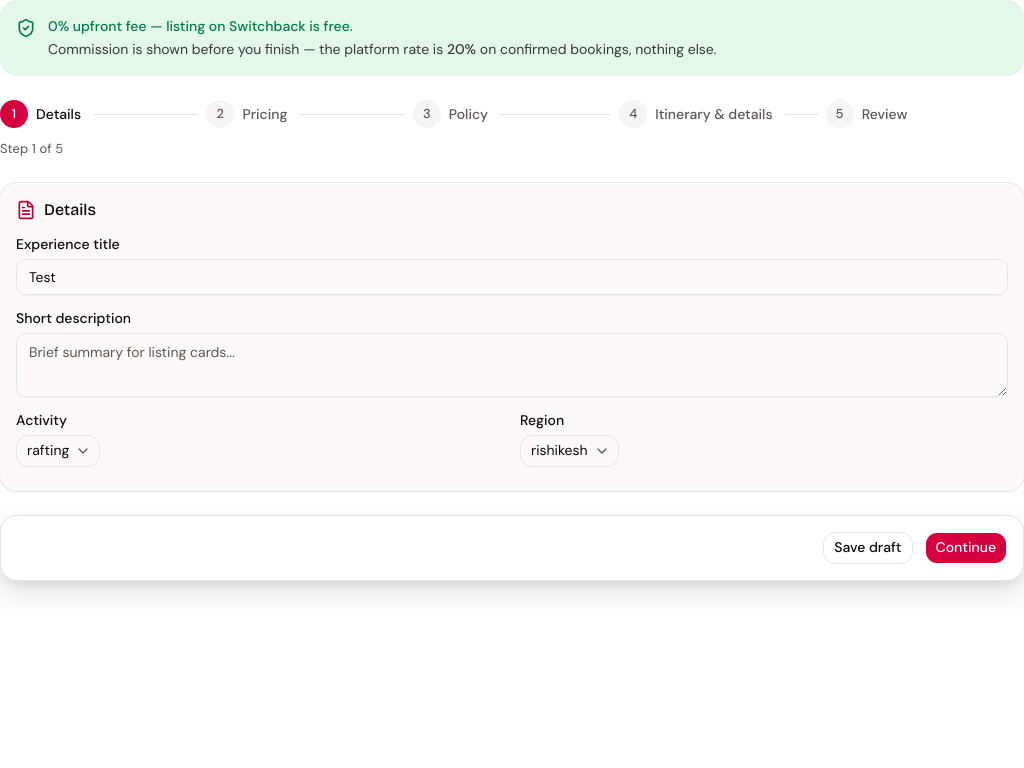
Cancellation policy section (vendor form, issue #10) › the Reschedule-allowed toggle reflects an off value
Click the button "3".
click(427, 114)  # box 413,100 -> 441,128
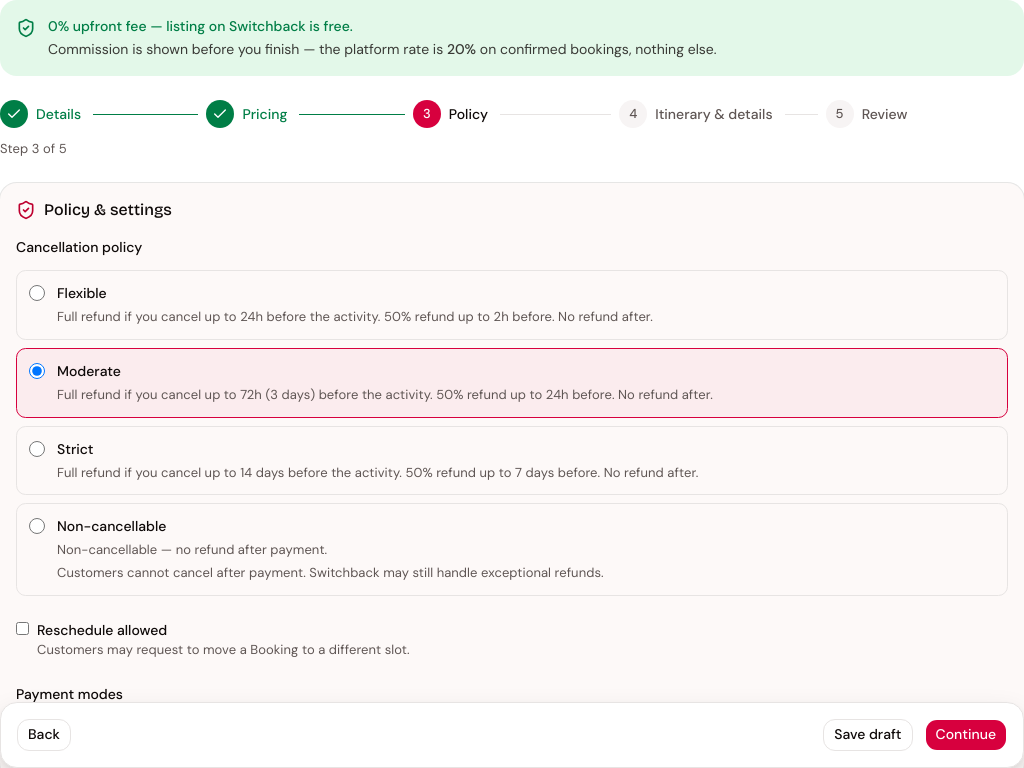
expect the checkbox labelled "Reschedule allowed" is not checked: met, box 16,622 -> 29,635
